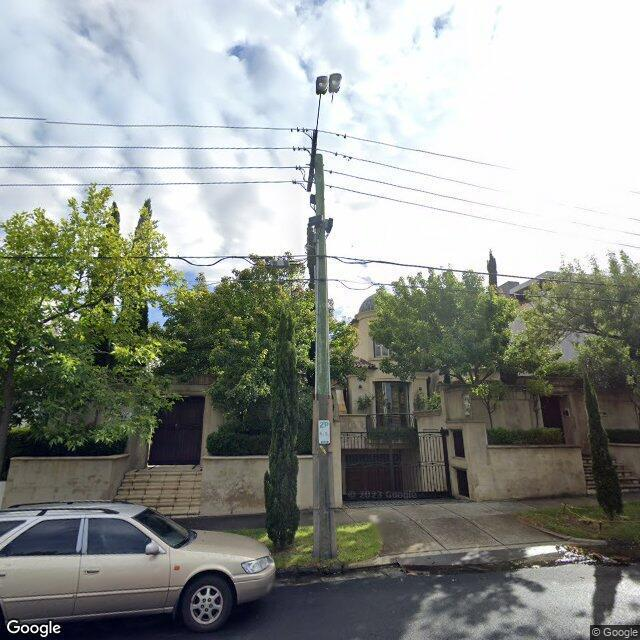crossarm: (290, 127, 353, 192)
streetlight: (315, 72, 342, 130)
timber-pole: (314, 154, 338, 560)
